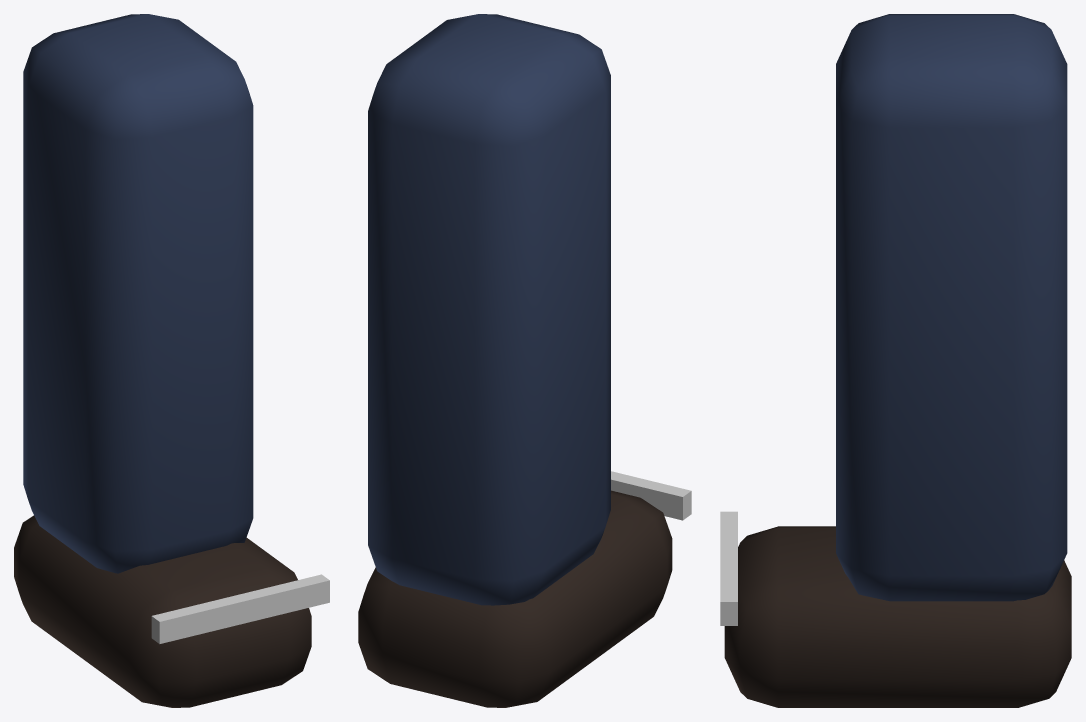
The model's file is person_leg_navy.glb.
The picture shows the model from 3 angles, left to right: view 1: azimuth 30°, elevation 25°; view 2: azimuth 150°, elevation 25°; view 3: azimuth 270°, elevation 25°; orthographic projection. The views are drawn at different scales.
Visible parts, largest first — view 1: person_leg_navy; view 2: person_leg_navy; view 3: person_leg_navy.
Boxes of the visible parts, x1,y1,x2,y2 form: person_leg_navy: [14, 14, 329, 707]; person_leg_navy: [358, 14, 691, 707]; person_leg_navy: [720, 14, 1071, 707].
Bounding box in the file's own units: 0.05 × 0.16 × 0.079.
